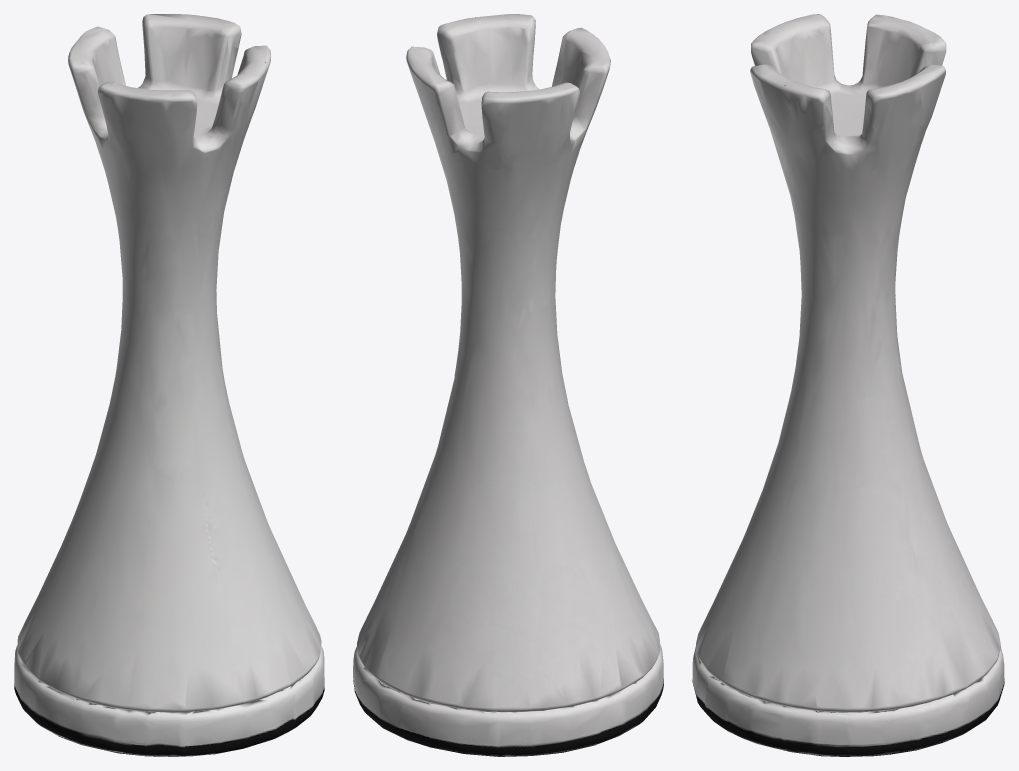
File: bishop-white.glb
The picture shows the model from 3 angles, left to right: view 1: azimuth 30°, elevation 25°; view 2: azimuth 150°, elevation 25°; view 3: azimuth 270°, elevation 25°; orthographic projection.
Bounding box in the file's own units: 0.583 × 1.32 × 0.5829.
1 material, 1 textured.
